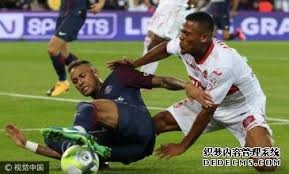fall: (145, 8, 288, 168)
